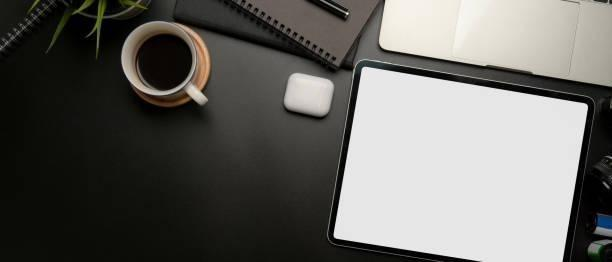cup-handle: (120, 19, 211, 109)
